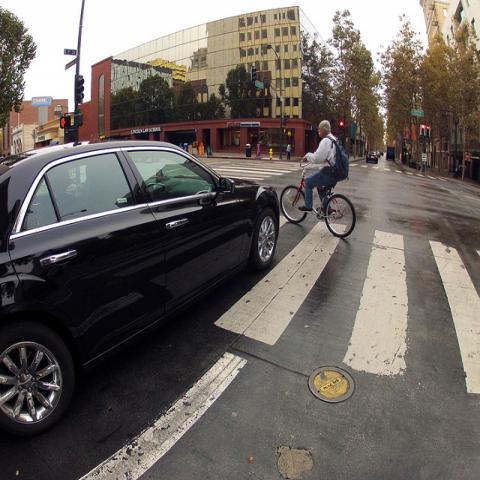car: (1, 139, 281, 443), (366, 152, 378, 164), (376, 152, 380, 158), (380, 150, 383, 156)
